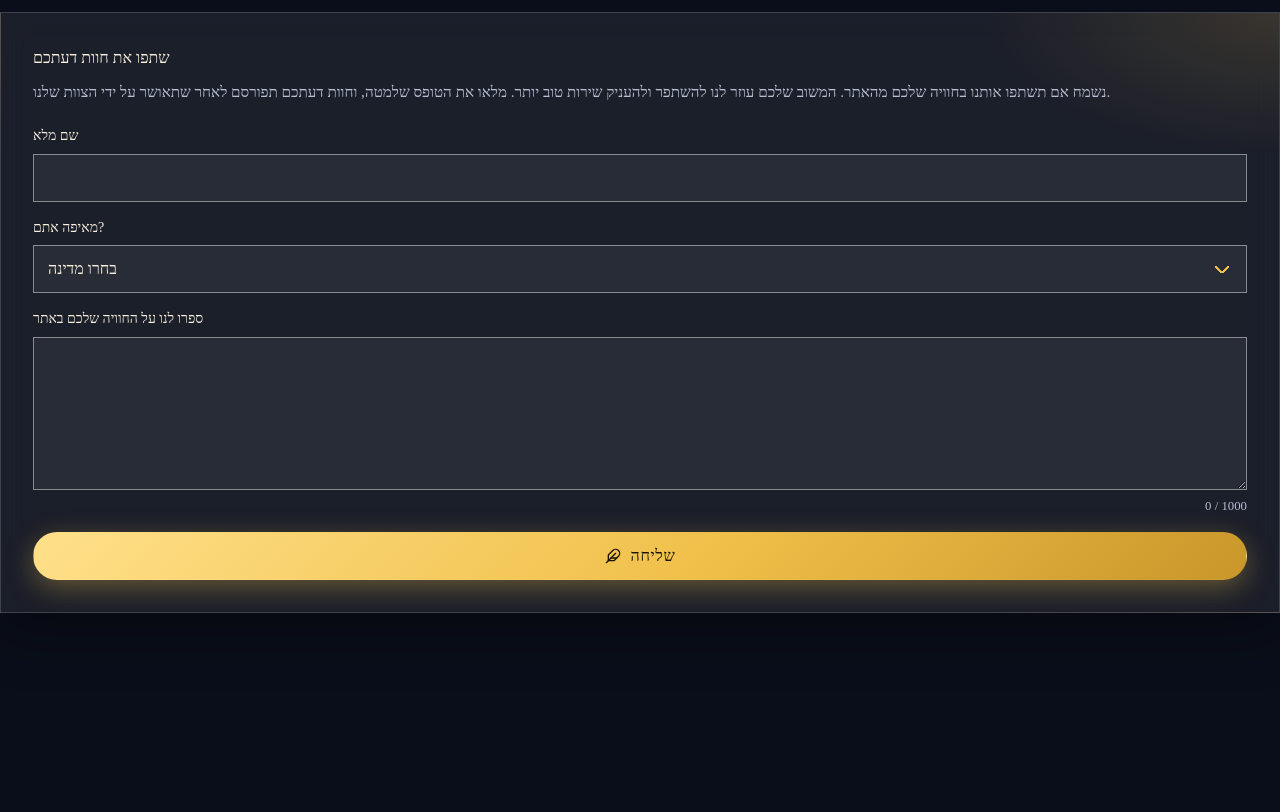
Test case: ReviewForm › explains a network failure
Type "מרים" into the field labelled "שם מלא" at (640, 178), box [33,154,1247,202]
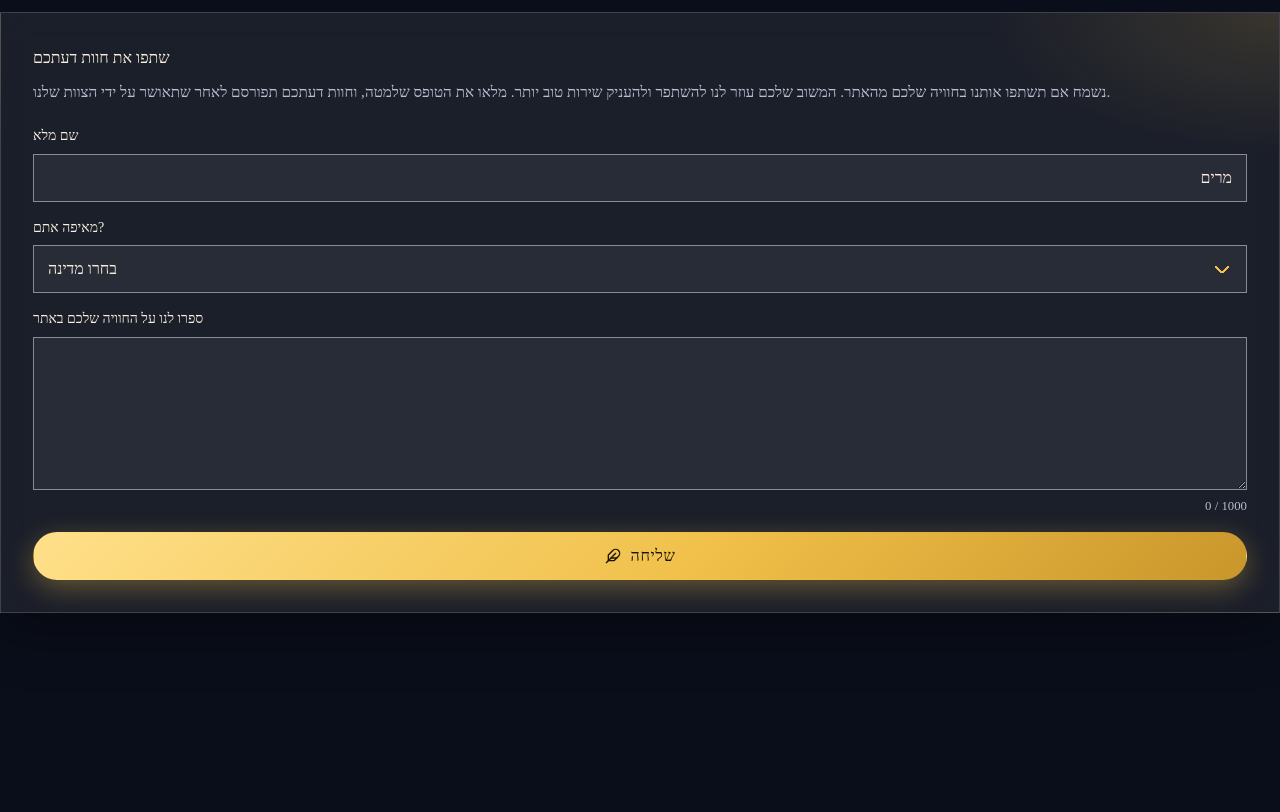
Select "ישראל" in the dropdown labelled "מאיפה אתם?" at (640, 269), box [33,245,1247,293]
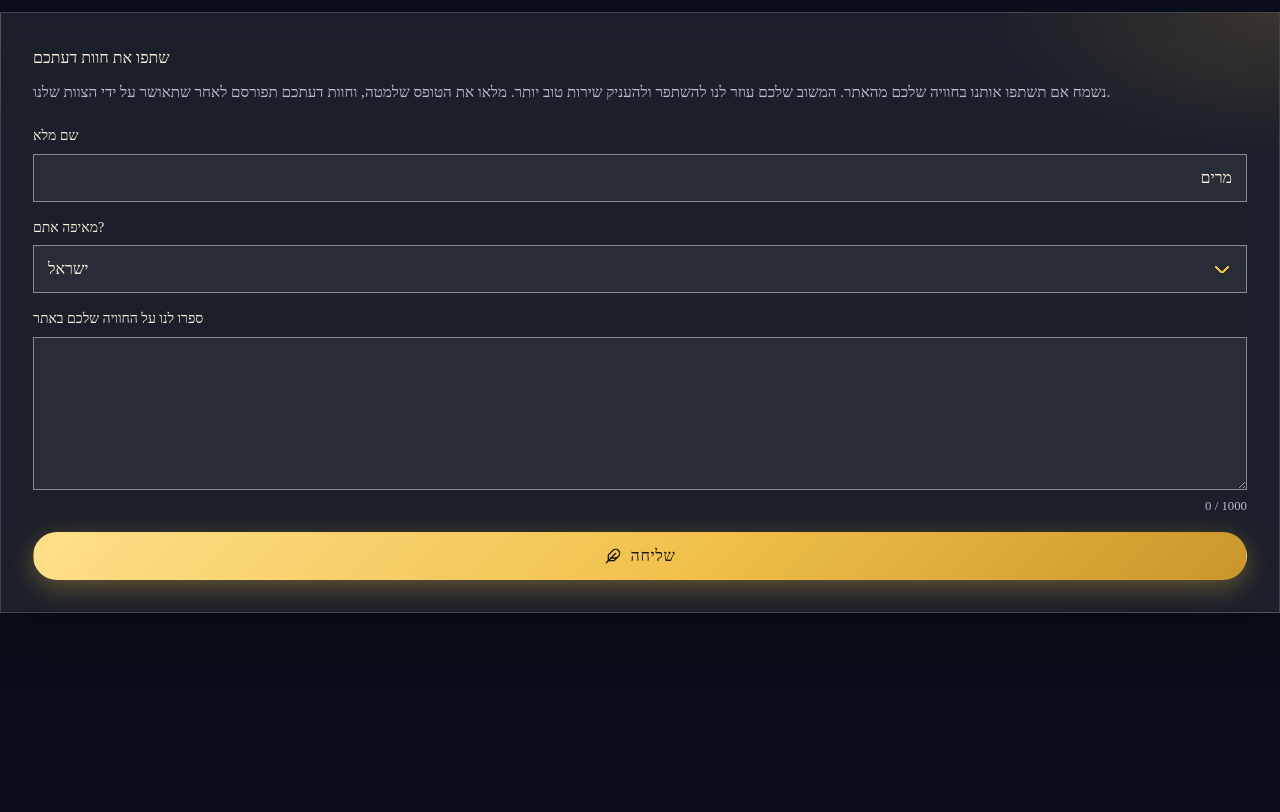
Type "תודה רבה" into the text box labelled "ספרו לנו על החוויה שלכם באתר" at (640, 414), box [33,336,1247,490]
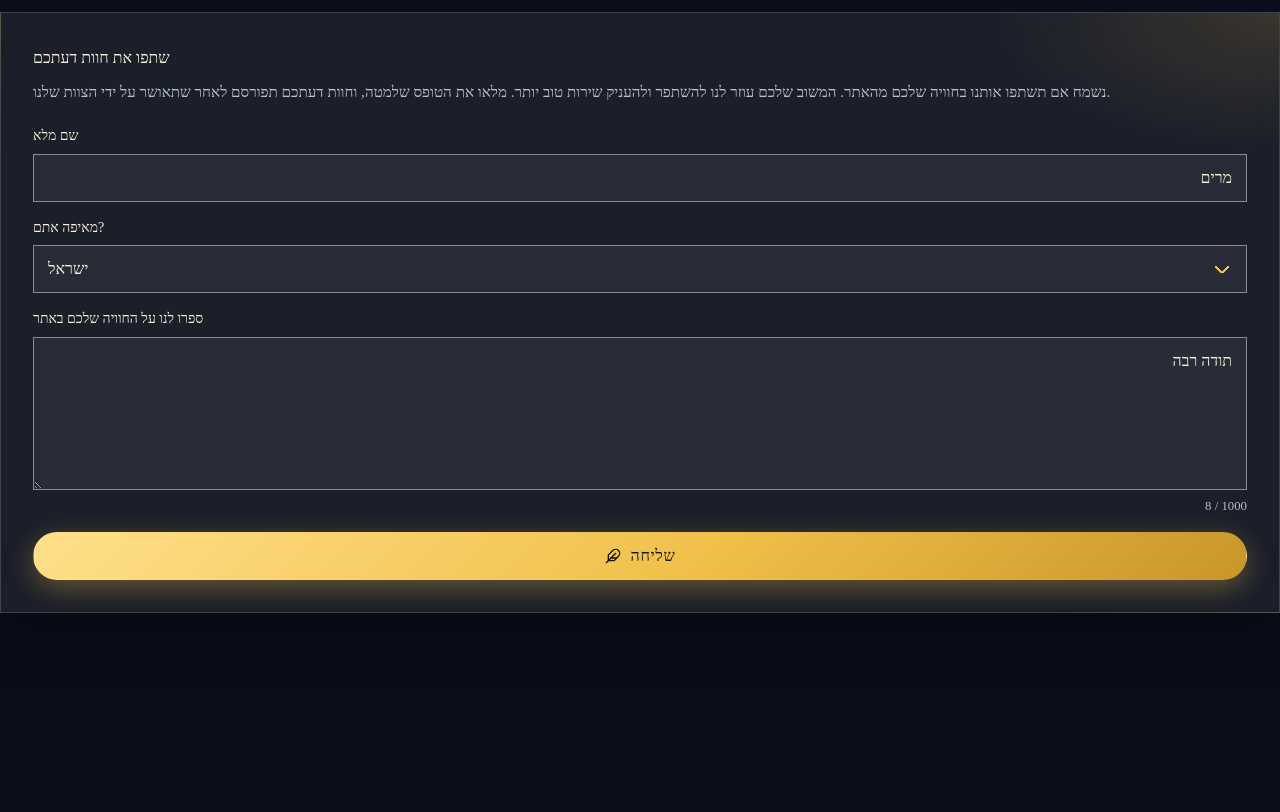
Click the button "שליחה" at (640, 556), box [33,532,1247,580]
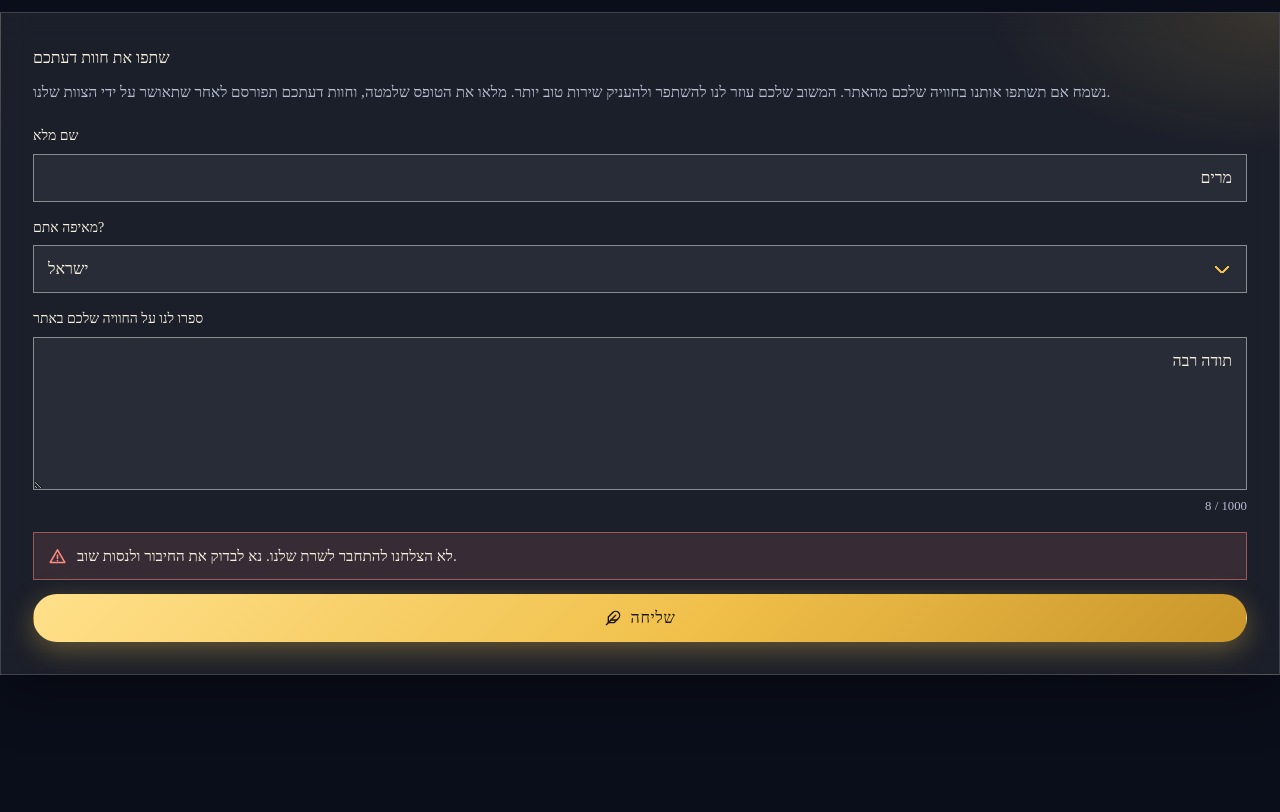
expect the message reads "לא הצלחנו להתחבר לשרת שלנו. נא לבדוק את החיבור ולנסות שוב.": met, box [77,547,457,564]
